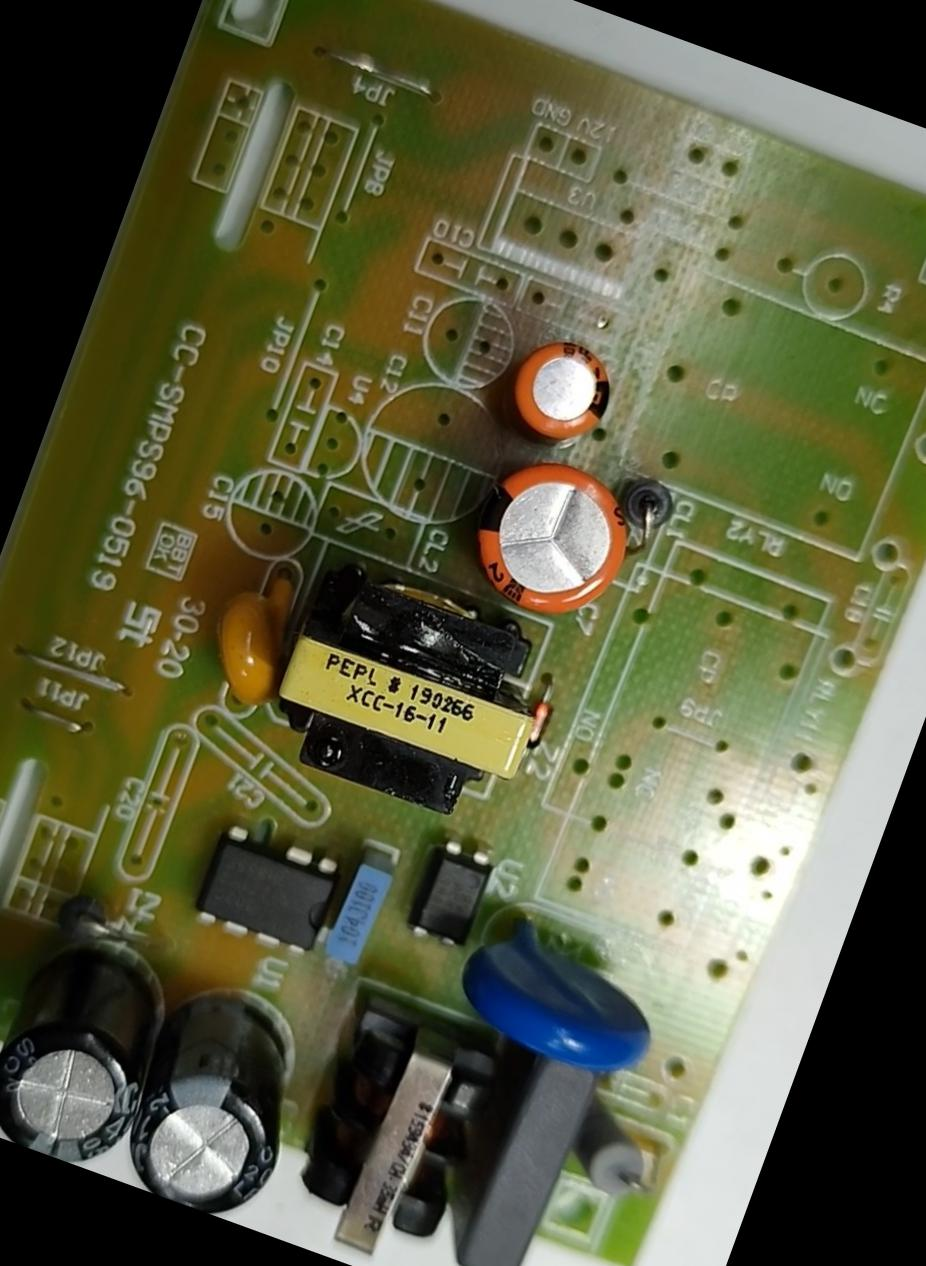Cap1: (442, 430, 657, 646)
Cap2: (487, 312, 638, 469)
Cap3: (105, 959, 334, 1230)
Cap4: (0, 907, 198, 1181)
MOSFET: (176, 802, 357, 976)
Mov: (435, 888, 687, 1099)
Resistor: (530, 1080, 670, 1213)
Transformer: (241, 534, 576, 842), (255, 964, 525, 1265)
